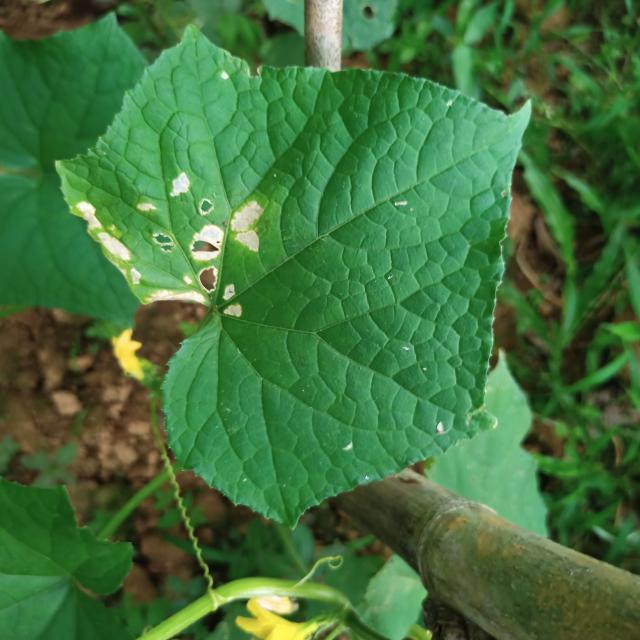disease_cucumber: (76, 174, 264, 319)
